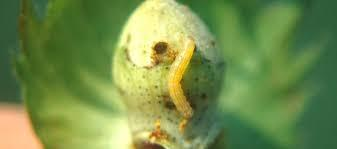Insects: (165, 36, 199, 122)
